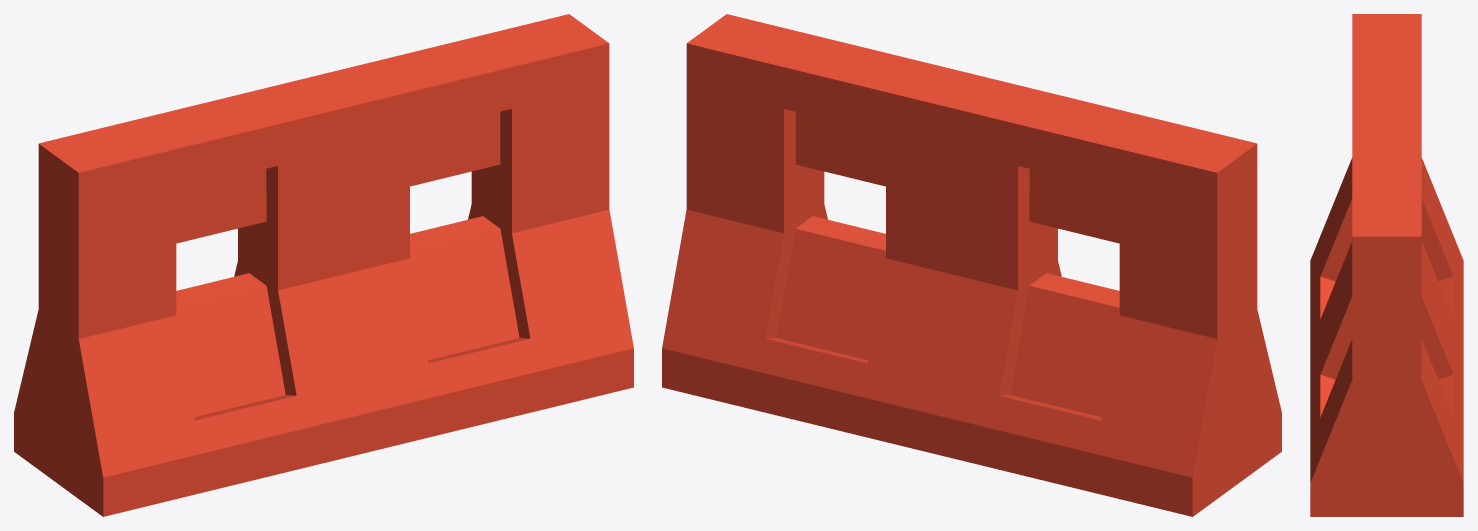
The model's file is Road Barrier_Red.fbx.
3 views of the same model, side by side, from view 1: azimuth 30°, elevation 25°; view 2: azimuth 150°, elevation 25°; view 3: azimuth 270°, elevation 25° (orthographic). The views are drawn at different scales.
Parts seen in each view (by area): view 1: Cube; view 2: Cube; view 3: Cube.
Boxes of the visible parts, x1,y1,x2,y2 form: Cube: [14, 14, 633, 516]; Cube: [662, 14, 1281, 516]; Cube: [1310, 14, 1463, 516].
Bounding box in the file's own units: 2 × 1.17 × 0.5819.
